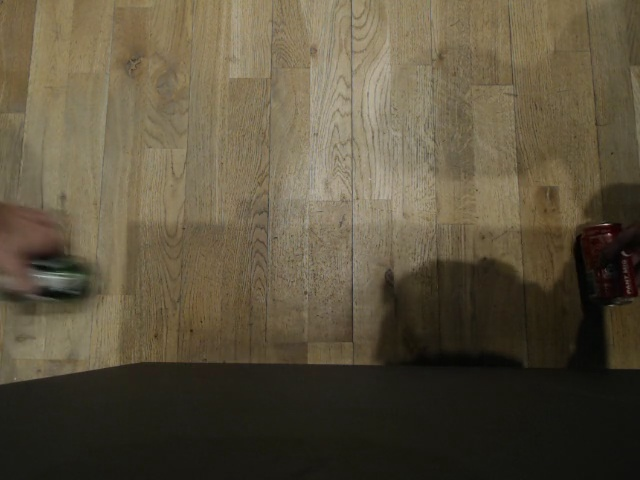beer: (4, 249, 92, 306)
cola: (576, 221, 636, 305)
